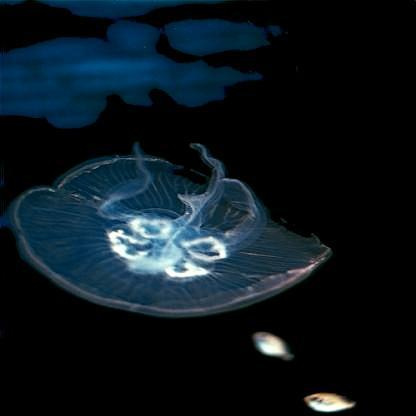Saltpeter: (251, 332, 299, 362), (301, 388, 355, 413)
Speckle: (17, 141, 336, 318)
